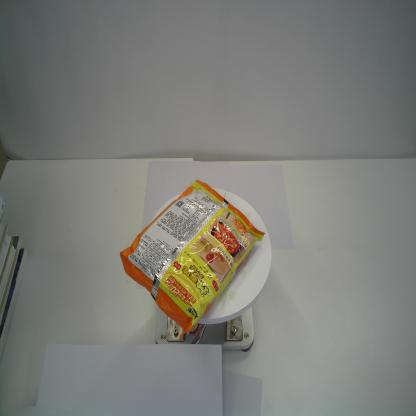Instant Noodles: (119, 177, 268, 346)
